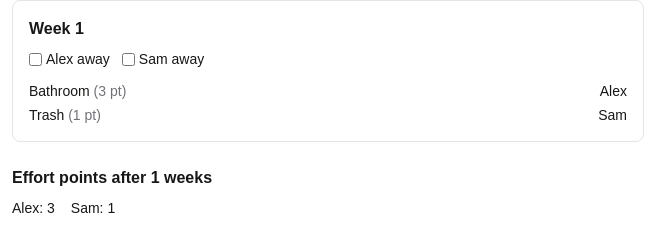
Test: ChoreSchedule › moves a member's chores to others when they are marked away
Click the checkbox labelled "Alex away" at (36, 59), box x1=29 y1=52 x2=42 y2=66
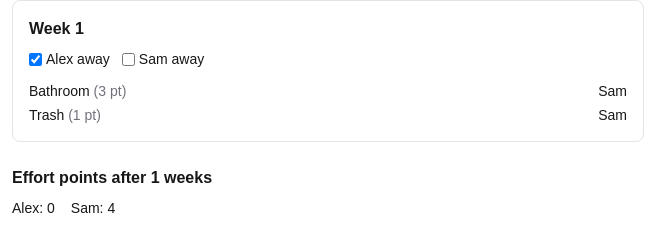
Expected: the text "Sam" in the row of "Bathroom" is shown, x1=598 y1=83 x2=627 y2=99
